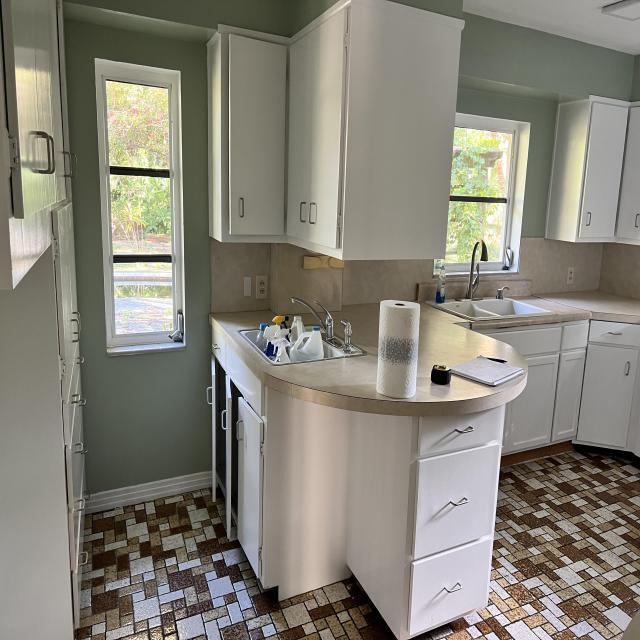Appliance_Sink: (238, 297, 367, 365), (438, 240, 550, 317)
Cabinet_Flat: (4, 0, 87, 640), (209, 3, 349, 257), (409, 405, 506, 640), (486, 320, 640, 459), (576, 96, 640, 247)
Cabinet_Shaker: (207, 328, 271, 594), (502, 351, 585, 456)
Countertop_Laminate: (246, 304, 378, 399), (416, 305, 524, 402), (521, 289, 640, 316), (210, 312, 273, 327)
